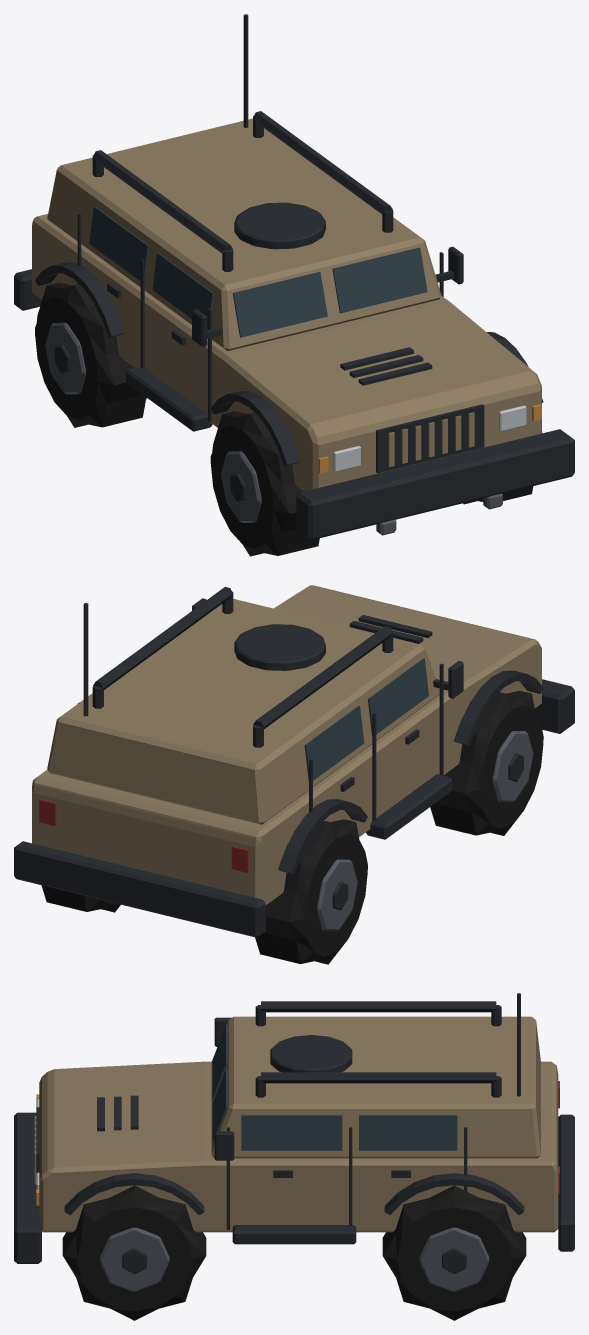
Rendered from patrulla.glb.
The picture shows the model from 3 angles, top to bottom: view 1: azimuth 30°, elevation 25°; view 2: azimuth 150°, elevation 25°; view 3: azimuth 270°, elevation 25°; orthographic projection. The views are drawn at different scales.
Parts seen in each view (by area): view 1: casco, wheel_LB, wheel_LF; view 2: casco, wheel_LB, wheel_LF, wheel_RB; view 3: casco, wheel_RF, wheel_RB.
Part boxes in pixels (left/top/right/bottom): casco: left=14, top=14, right=574, bottom=540; wheel_LB: left=35, top=282, right=146, bottom=427; wheel_LF: left=210, top=411, right=319, bottom=556; casco: left=14, top=585, right=574, bottom=937; wheel_LB: left=255, top=819, right=367, bottom=964; wheel_LF: left=430, top=690, right=543, bottom=835; wheel_RB: left=41, top=885, right=120, bottom=912; casco: left=14, top=993, right=574, bottom=1263; wheel_RF: left=62, top=1185, right=206, bottom=1320; wheel_RB: left=382, top=1185, right=526, bottom=1320.
Size of the model in its own units: 0.527 by 0.602 by 1.
